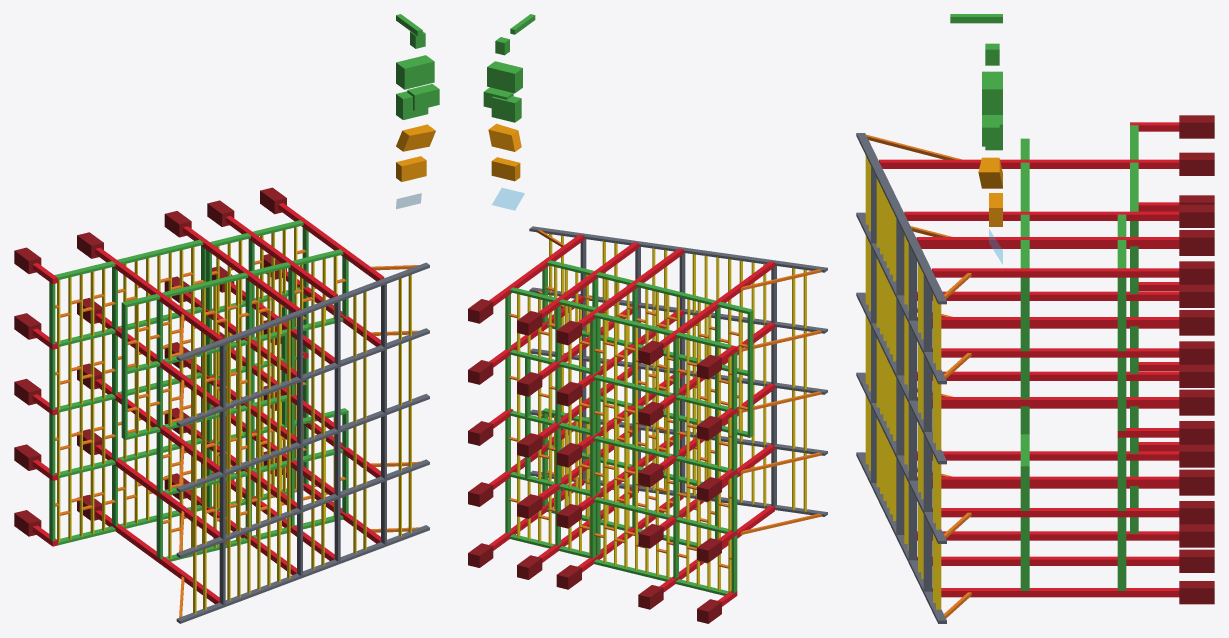
The model's file is tinker.obj.
3 renders of one model, left to right at view 1: azimuth 30°, elevation 25°; view 2: azimuth 150°, elevation 25°; view 3: azimuth 270°, elevation 25°, orthographic. The views are drawn at different scales.
Parts seen in each view (by area): view 1: obj_1, obj_420, obj_2, obj_20, obj_15, obj_3, obj_421, obj_4, obj_11, obj_6, obj_419, obj_7 (+10 smaller); view 2: obj_1, obj_420, obj_2, obj_421, obj_3, obj_4, obj_419, obj_20, obj_15, obj_7, obj_13, obj_21 (+11 smaller); view 3: obj_1, obj_2, obj_3, obj_4, obj_9, obj_18, obj_23, obj_13, obj_17, obj_22, obj_8, obj_16 (+53 smaller).
Boxes of the visible parts, left/top/right/bottom form: obj_1: left=95, top=247, right=222, bottom=341; obj_420: left=396, top=84, right=439, bottom=119; obj_2: left=183, top=226, right=300, bottom=312; obj_20: left=95, top=510, right=219, bottom=603; obj_15: left=95, top=444, right=219, bottom=538; obj_3: left=225, top=216, right=337, bottom=298; obj_421: left=396, top=55, right=434, bottom=89; obj_4: left=278, top=203, right=384, bottom=280; obj_11: left=95, top=379, right=219, bottom=472; obj_6: left=95, top=313, right=219, bottom=407; obj_419: left=396, top=124, right=435, bottom=151; obj_7: left=183, top=292, right=296, bottom=378; obj_1: left=659, top=261, right=774, bottom=347; obj_420: left=483, top=87, right=521, bottom=122; obj_2: left=578, top=248, right=683, bottom=327; obj_421: left=487, top=61, right=522, bottom=93; obj_3: left=538, top=242, right=638, bottom=318; obj_4: left=489, top=234, right=584, bottom=306; obj_419: left=488, top=123, right=521, bottom=151; obj_20: left=659, top=505, right=774, bottom=592; obj_15: left=659, top=444, right=774, bottom=531; obj_7: left=578, top=310, right=683, bottom=389; obj_13: left=538, top=365, right=638, bottom=440; obj_21: left=578, top=496, right=683, bottom=572; obj_1: left=879, top=159, right=1179, bottom=168; obj_2: left=904, top=211, right=1179, bottom=220; obj_3: left=916, top=237, right=1179, bottom=246; obj_4: left=932, top=268, right=1179, bottom=277; obj_9: left=932, top=348, right=1179, bottom=357; obj_18: left=932, top=508, right=1179, bottom=517; obj_23: left=932, top=588, right=1179, bottom=597; obj_13: left=917, top=397, right=1179, bottom=406; obj_17: left=917, top=476, right=1179, bottom=485; obj_22: left=917, top=556, right=1179, bottom=565; obj_8: left=917, top=317, right=1179, bottom=326; obj_16: left=917, top=451, right=1179, bottom=460.
Bounding box in the file's own units: 132 × 192 × 102.
